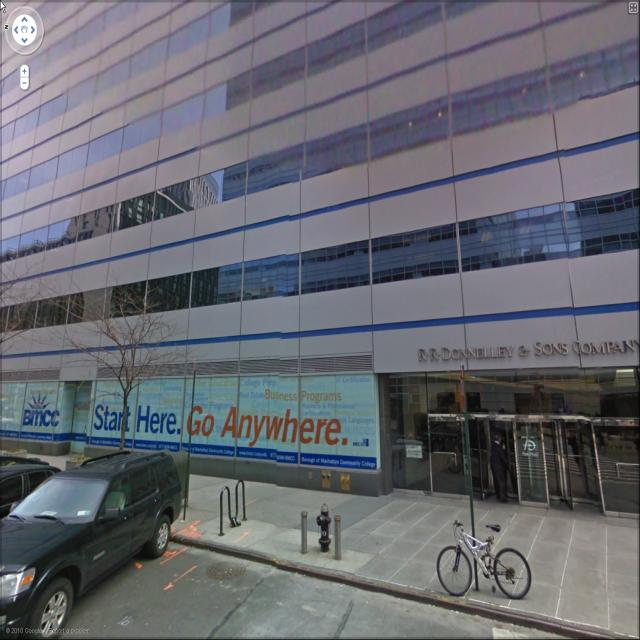b_1: (1, 1, 634, 500)
b_2: (4, 5, 626, 475)
